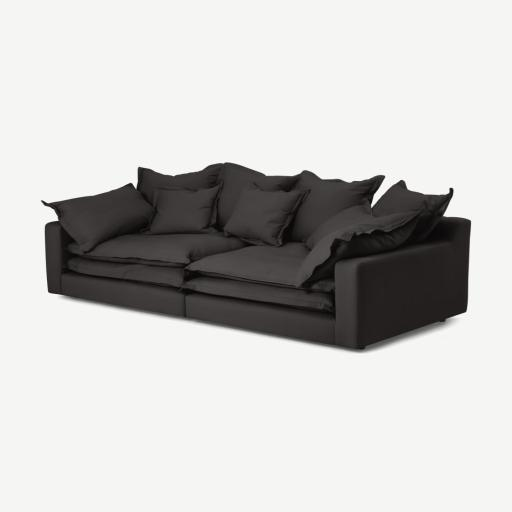back_cushion: (139, 163, 453, 248)
base: (62, 272, 334, 344)
left_arm: (335, 218, 470, 349)
right_arm: (45, 222, 71, 294)
seat_cushion: (66, 233, 334, 292)
two-seater: (0, 0, 511, 512)
